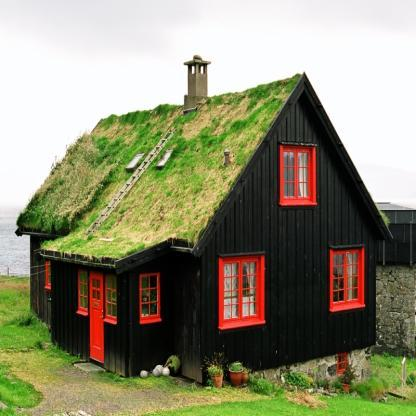Building Outline: (14, 55, 393, 393)
Dont: (200, 350, 361, 397), (139, 354, 180, 378)
Door: (89, 270, 104, 364)
Facade: (31, 225, 199, 382)
Floor Slab: (30, 226, 199, 256)
Ground Floor: (30, 236, 198, 382)
Roof: (14, 71, 393, 274)
Top Floor: (17, 91, 292, 244)
Window: (139, 272, 160, 320), (105, 274, 116, 321), (78, 268, 88, 313), (46, 252, 55, 289), (155, 150, 174, 166), (125, 154, 145, 168)
